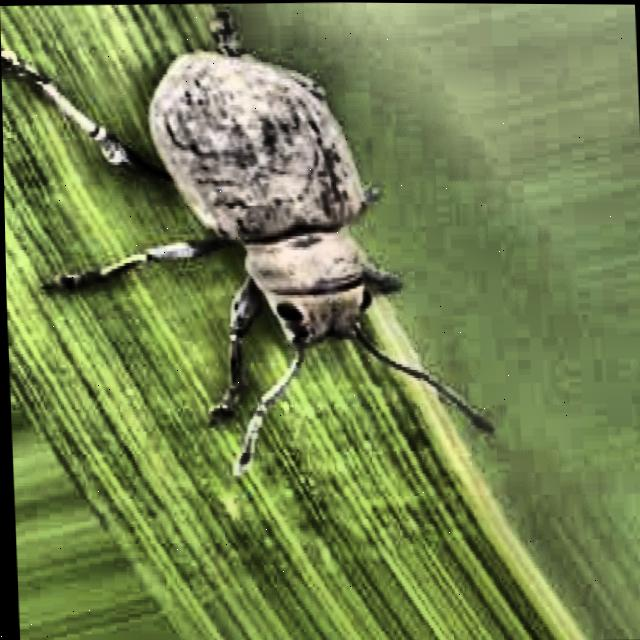Stink bug: (69, 0, 403, 415)
